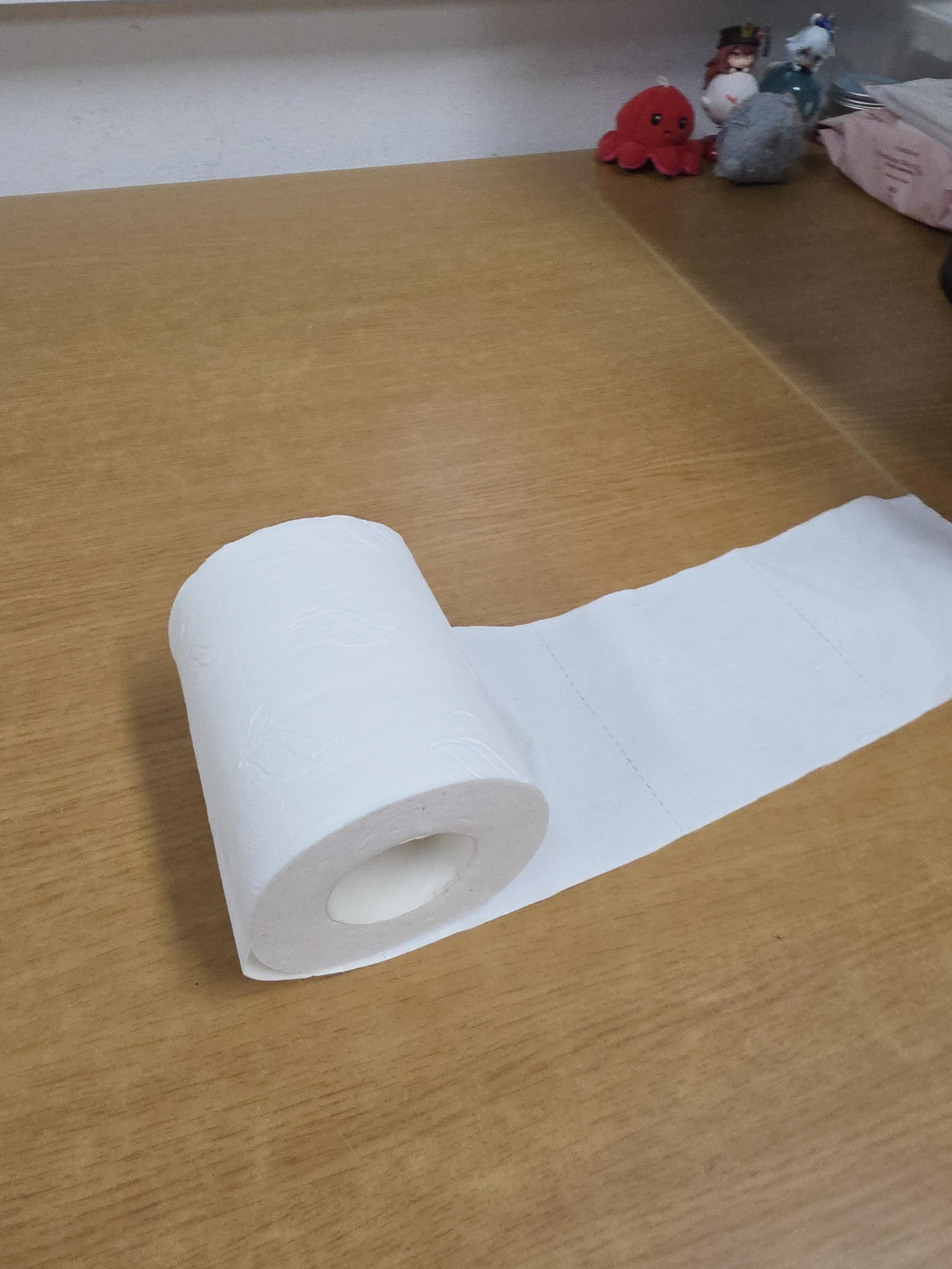tissue: (167, 492, 951, 982)
